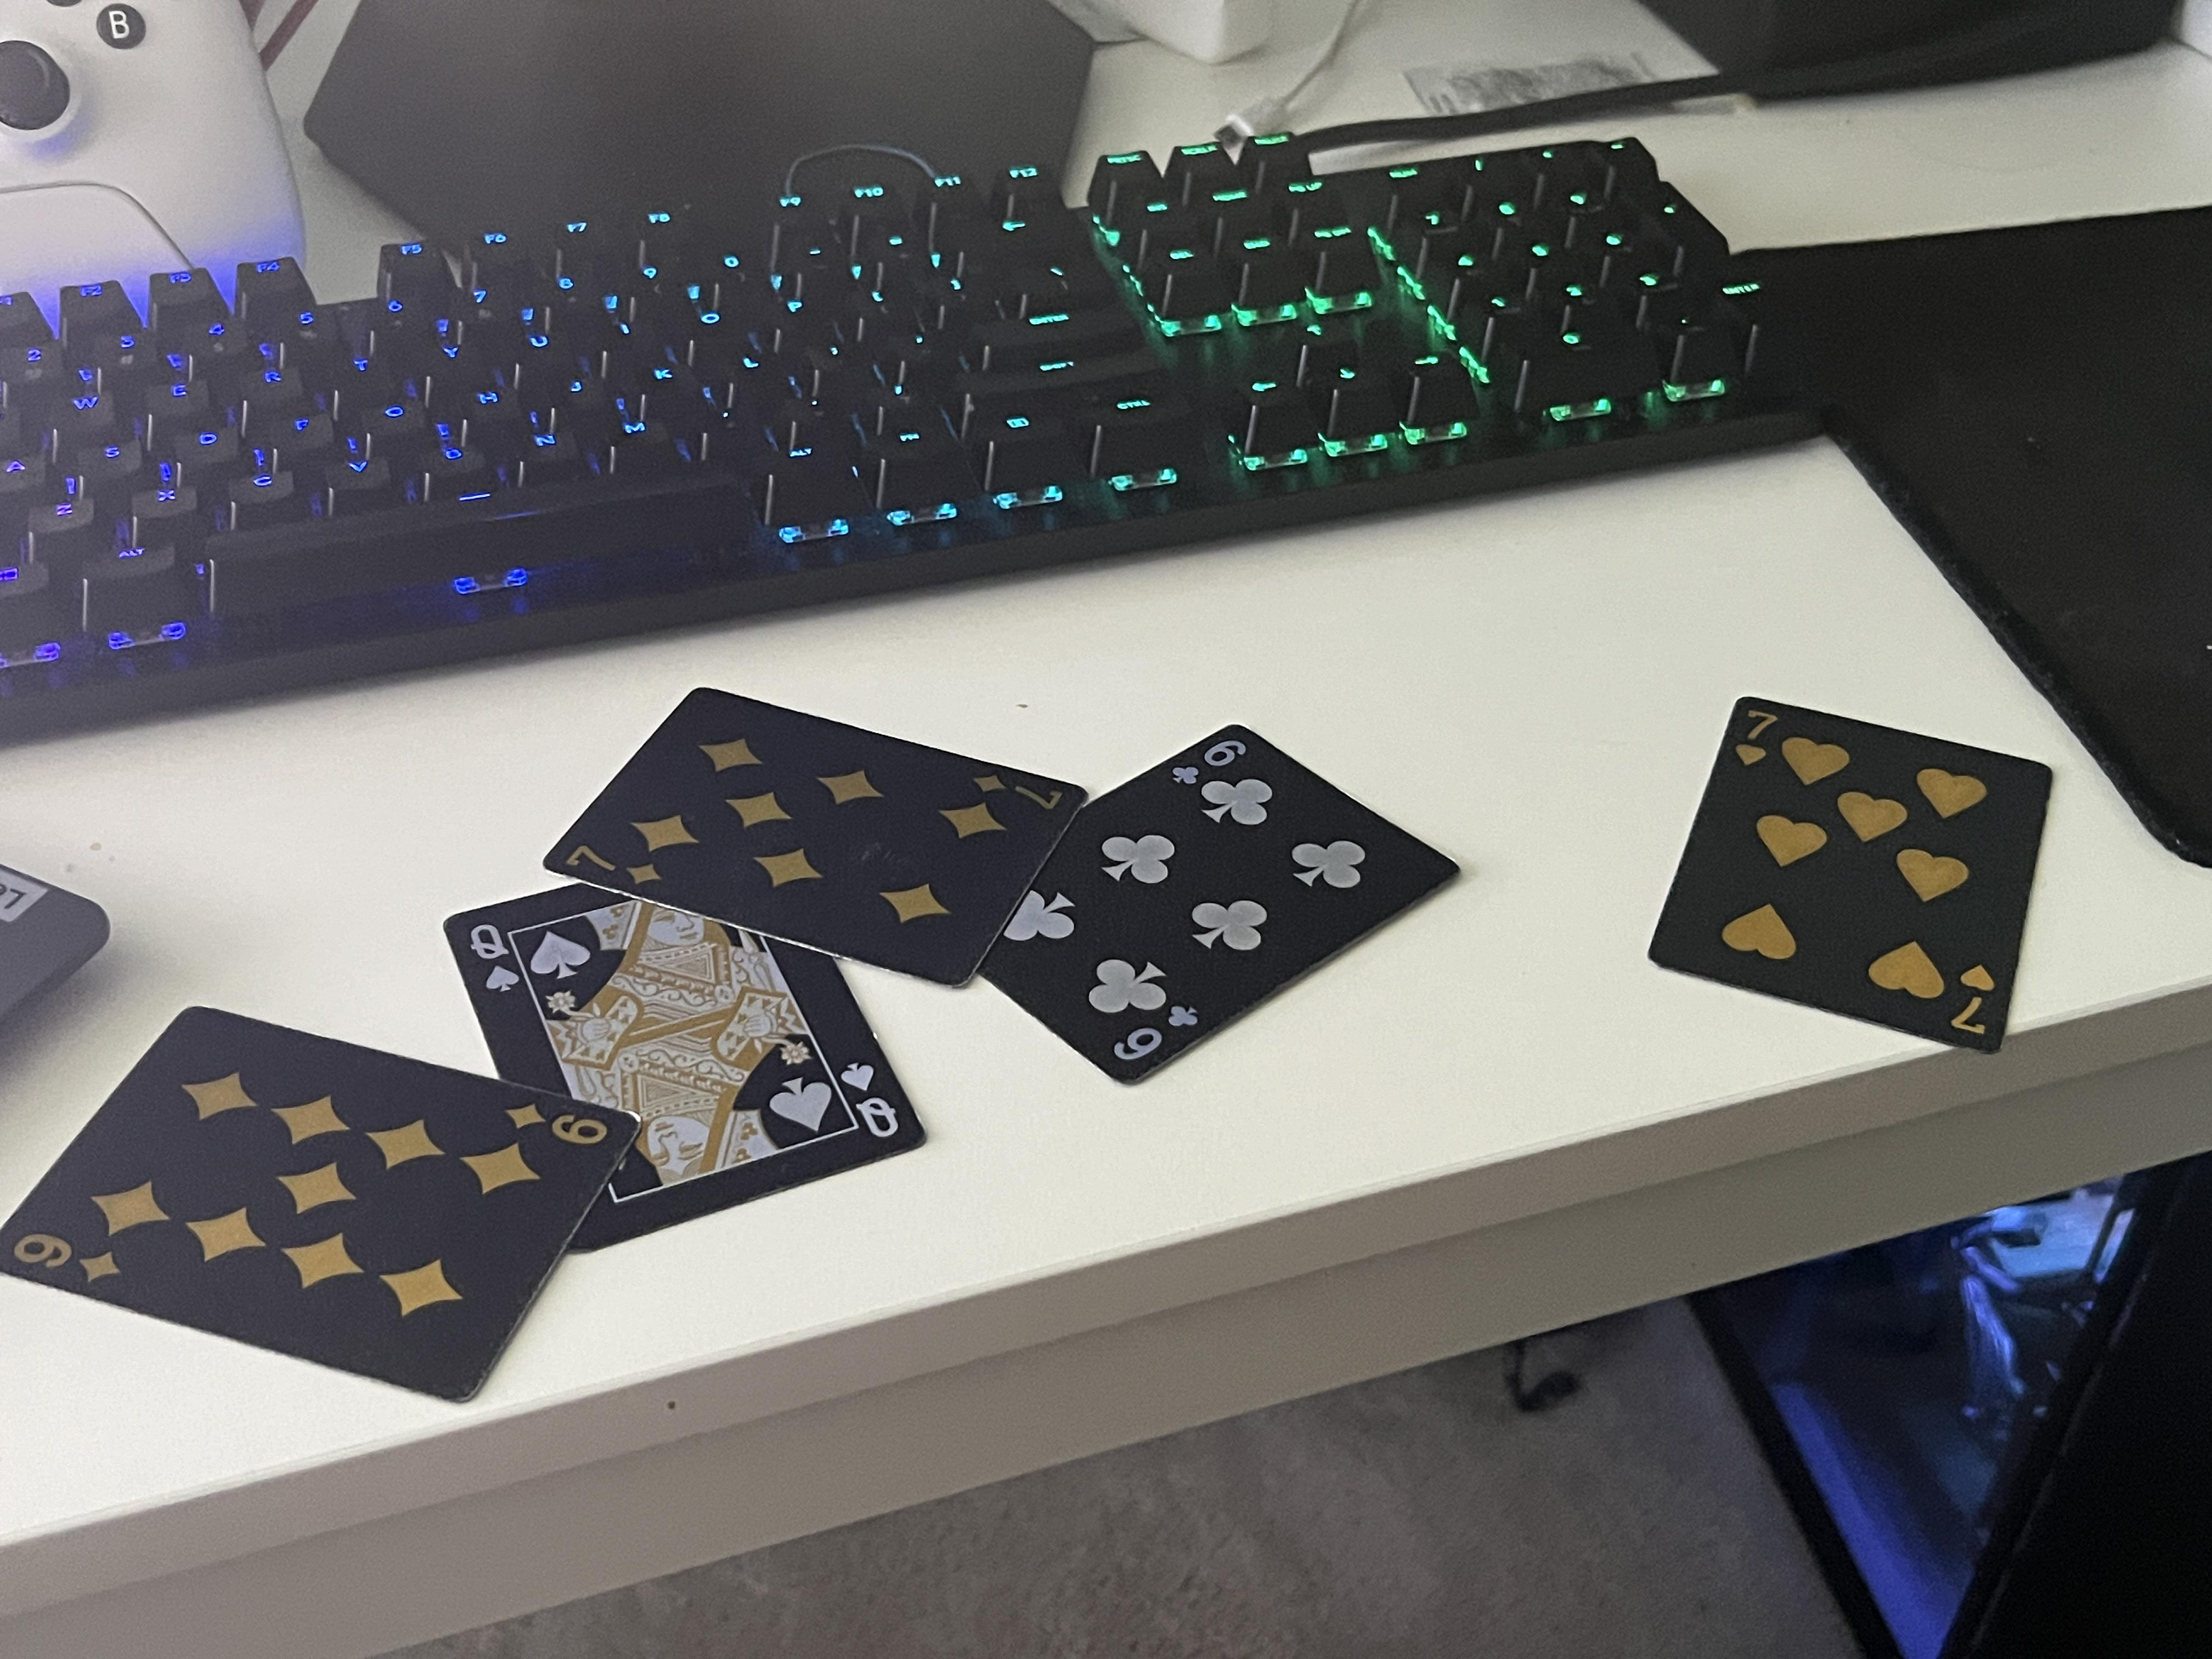6C: (1102, 1007, 1198, 1079), (1165, 730, 1246, 798)
7D: (559, 833, 673, 898), (964, 755, 1073, 816)
7H: (1950, 953, 1996, 1044), (1724, 699, 1776, 769)
9D: (9, 1231, 128, 1289), (498, 1098, 607, 1149)
QS: (456, 915, 526, 1014), (829, 1055, 900, 1143)
